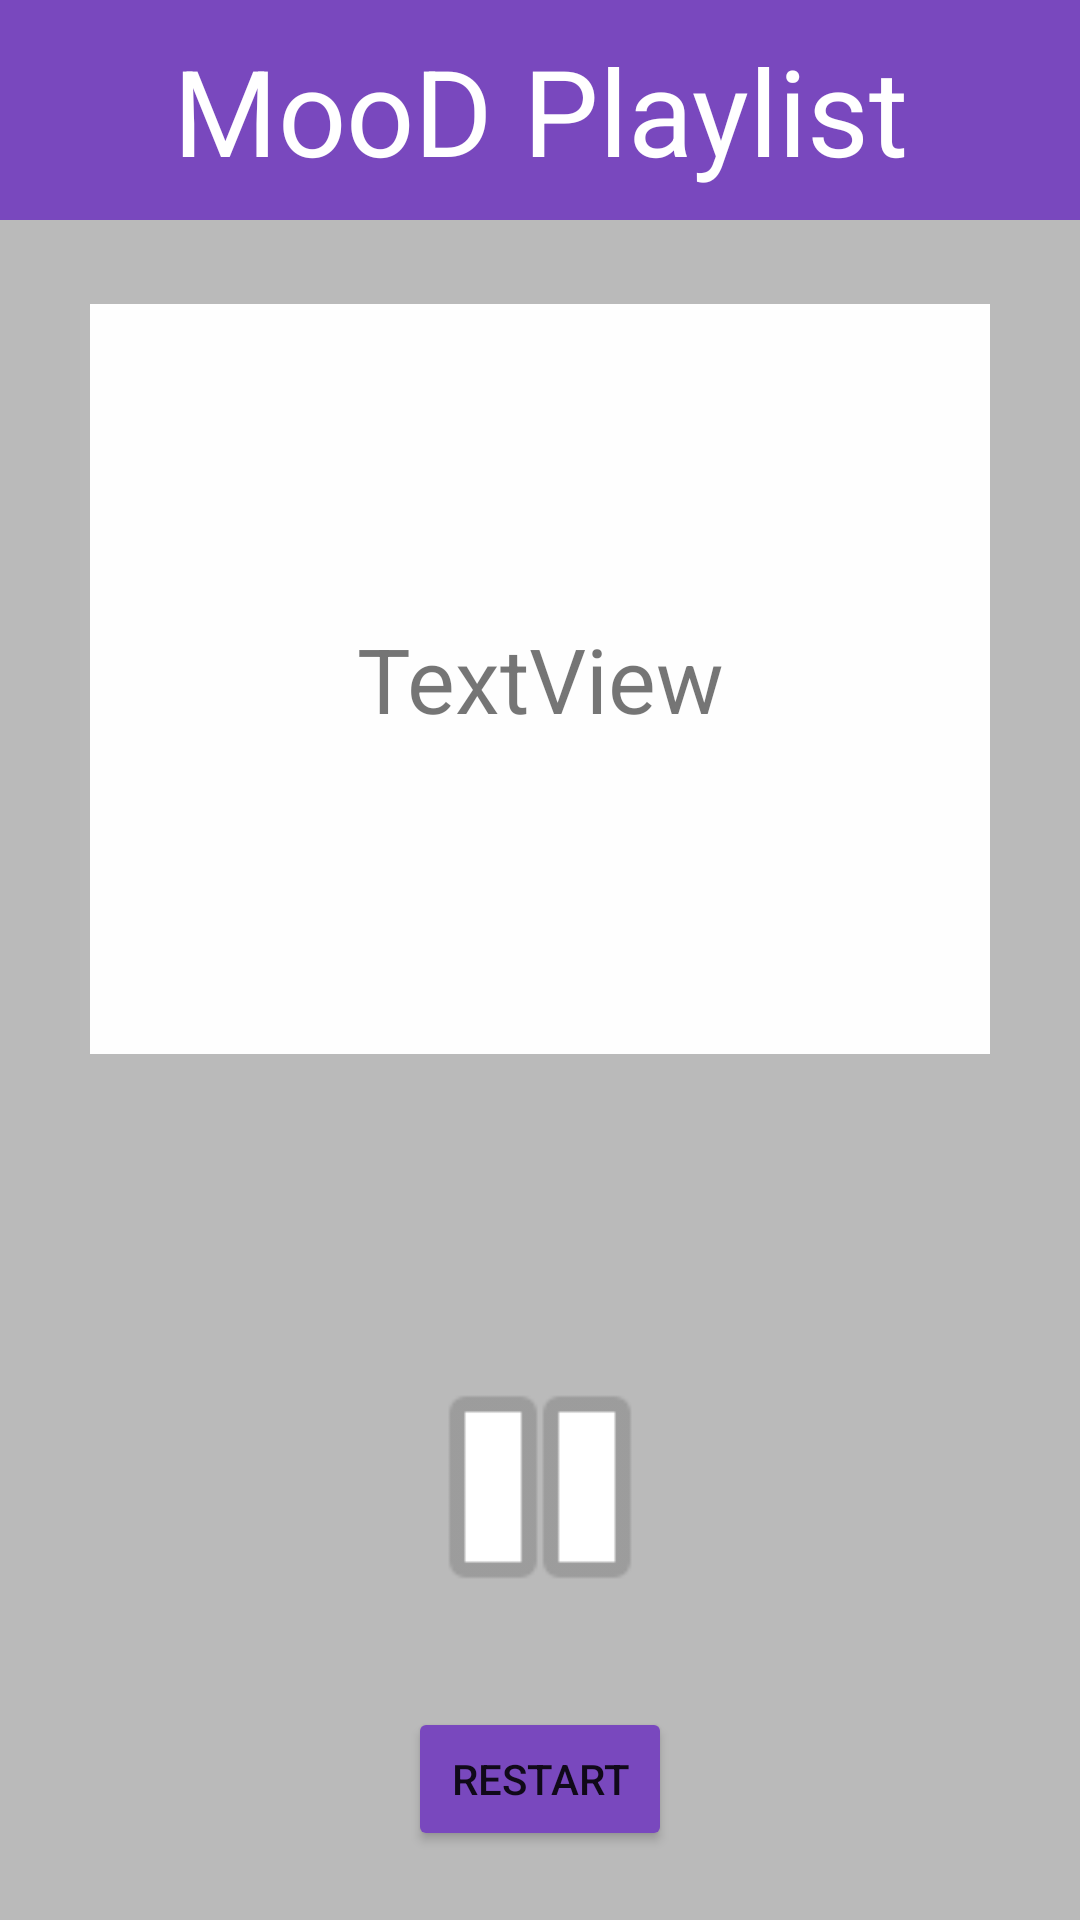

Where icons sit on this 1080 × 1920 app screen, as [x1,y1,x2,y2]:
pause: [450,1397,630,1577]
